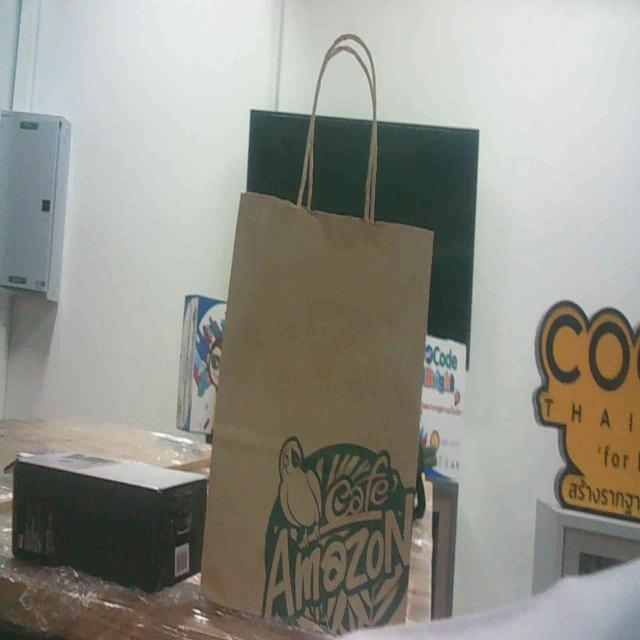bag: (186, 180, 447, 640)
